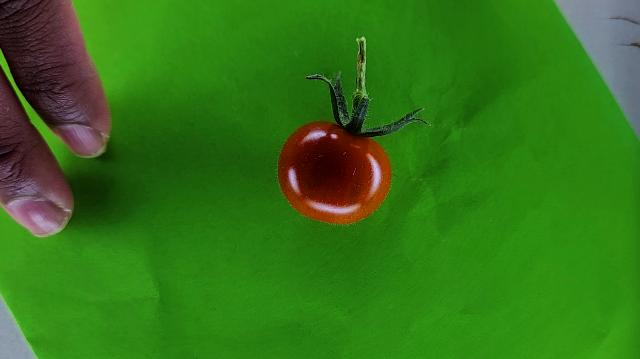Fully Grown: (276, 121, 393, 226)
